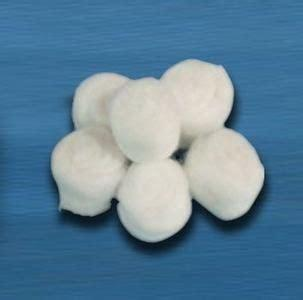cotton: (51, 124, 130, 216), (187, 128, 263, 219), (118, 157, 194, 243), (163, 58, 234, 148), (110, 77, 181, 161), (73, 72, 130, 140)
